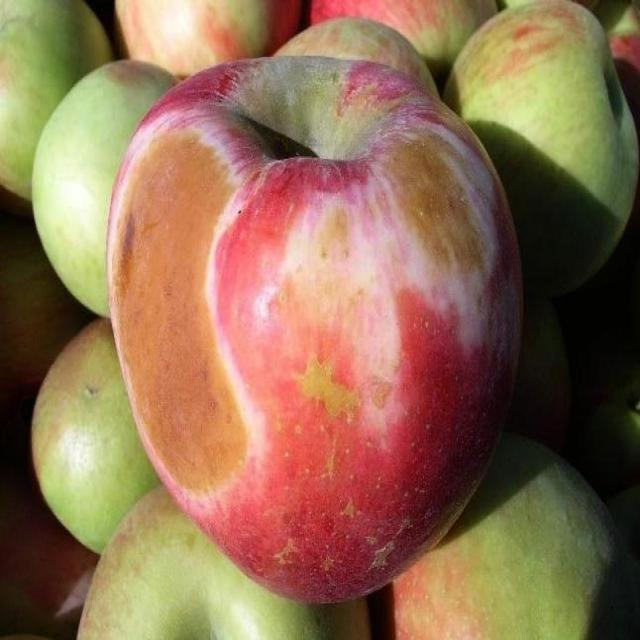Sunscald Fruit: (70, 78, 177, 345)
